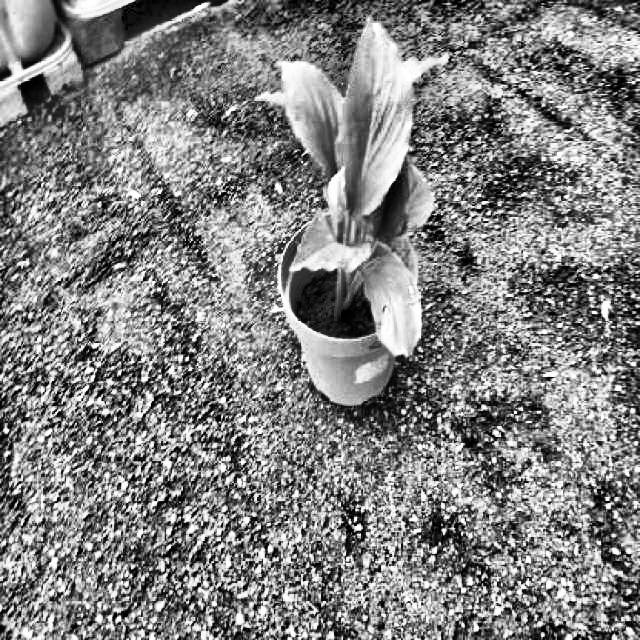plants: (254, 14, 448, 362)
